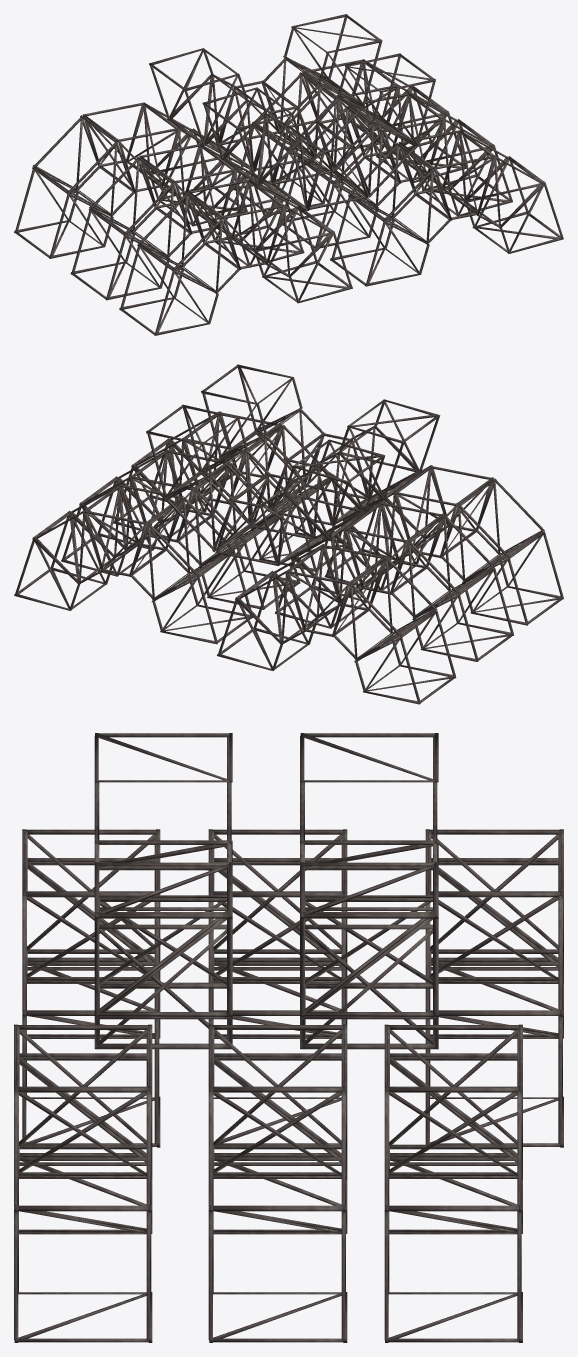
File: Iron_Rode_4.glb
3 renders of one model, top to bottom at view 1: azimuth 30°, elevation 25°; view 2: azimuth 150°, elevation 25°; view 3: azimuth 270°, elevation 25°, orthographic. The views are drawn at different scales.
Parts seen in each view (by area): view 1: Iron_Rode_4; view 2: Iron_Rode_4; view 3: Iron_Rode_4.
Part boxes in pixels (box(x1,y1,x2,y2)): Iron_Rode_4: box(14, 14, 563, 335); Iron_Rode_4: box(14, 364, 563, 704); Iron_Rode_4: box(14, 733, 563, 1342).
Bounding box in the file's own units: 13.32 × 5.41 × 8.13.
1 material, 1 textured.
